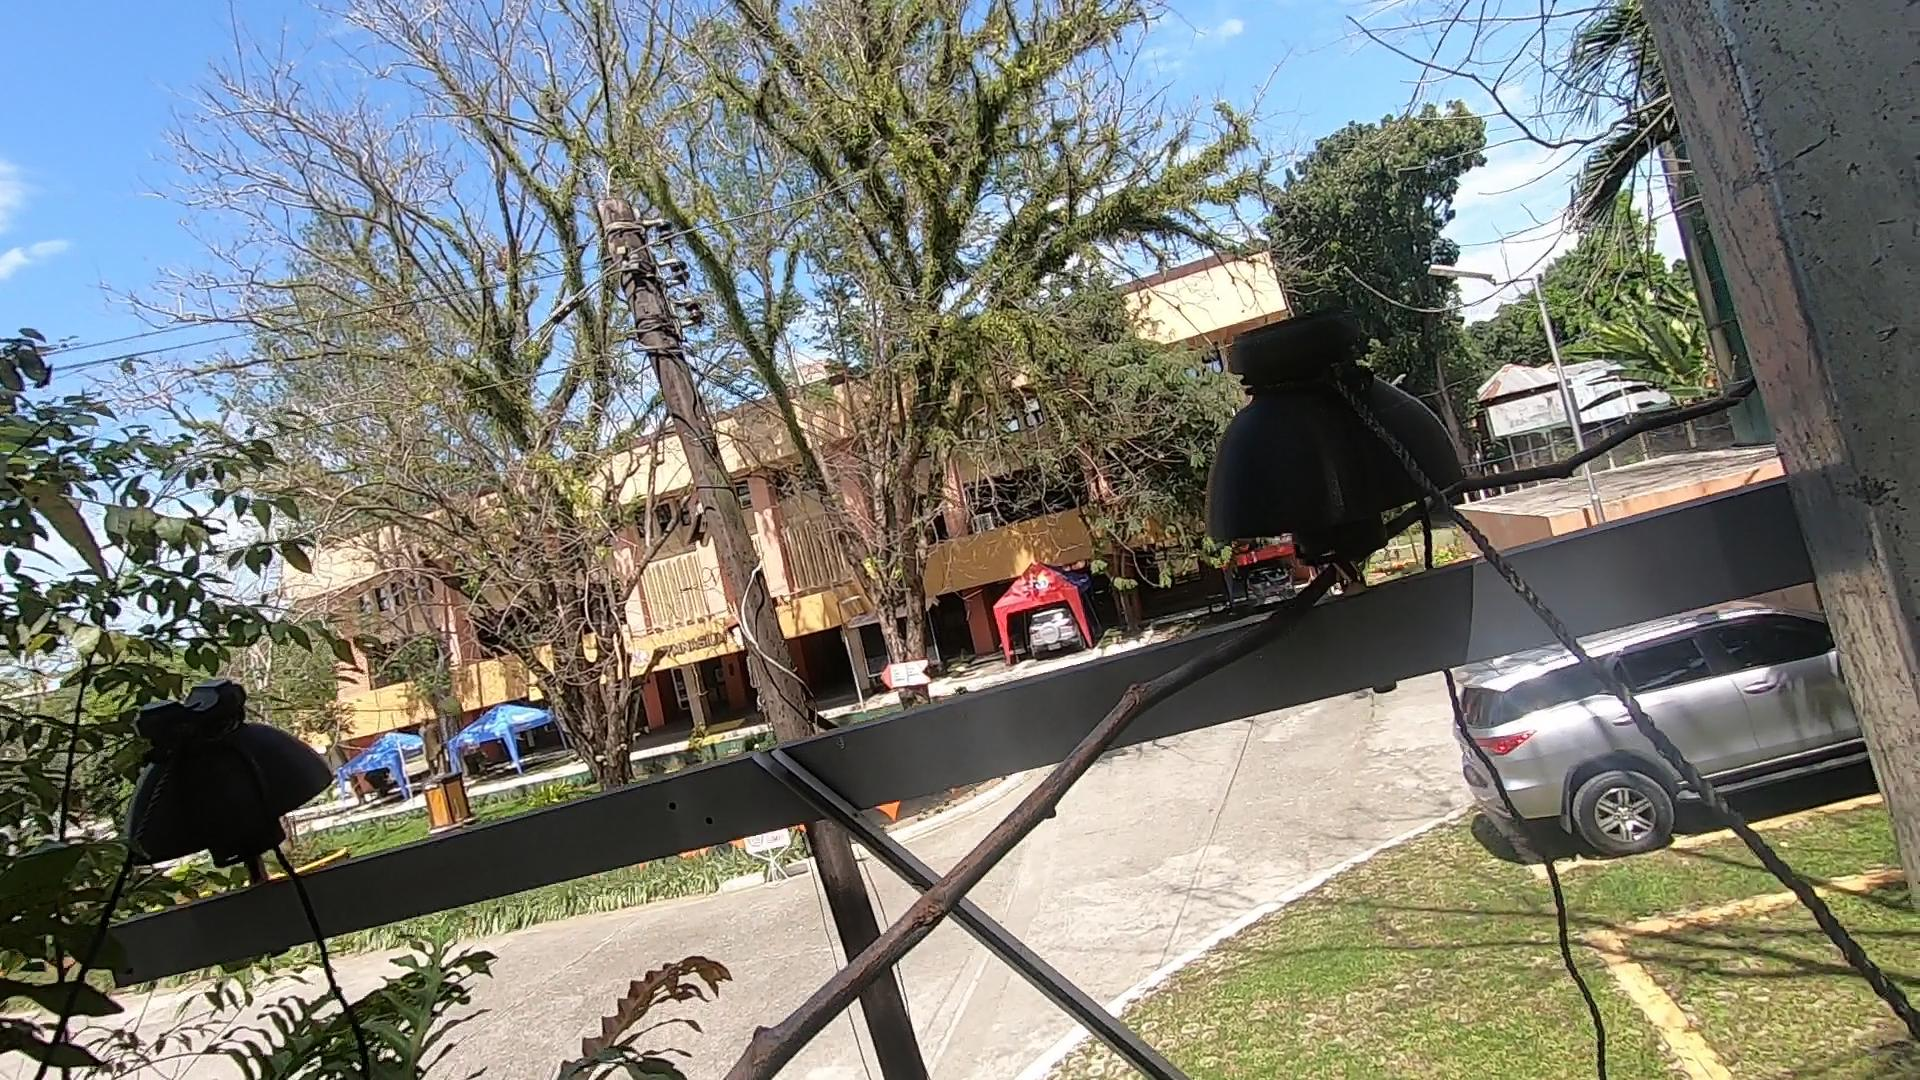tree branch: (599, 367, 1844, 1068)
